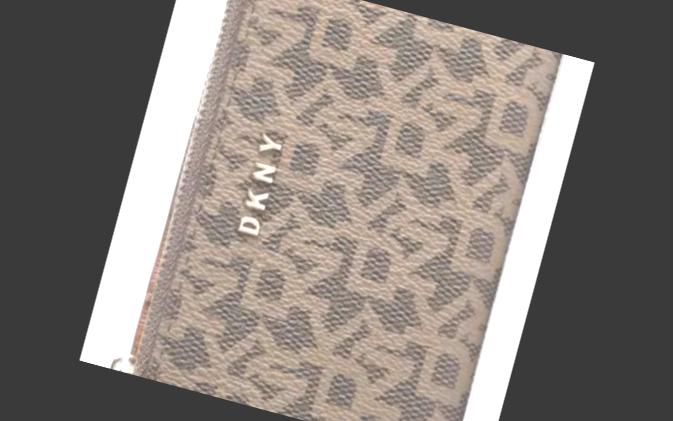DKNY: (236, 131, 284, 235)
